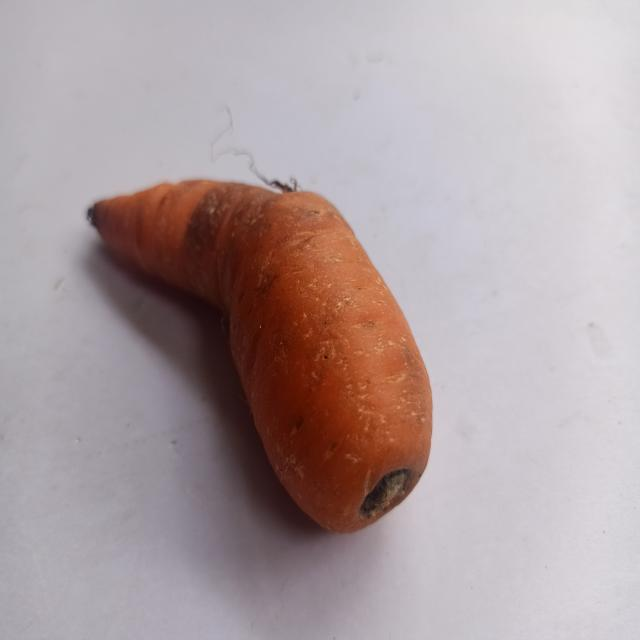Carrot: (66, 146, 450, 561)
